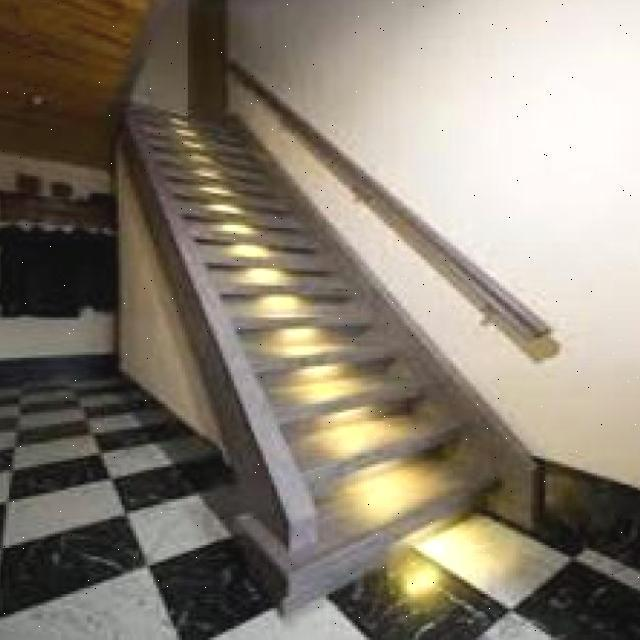stair: (231, 315, 499, 557)
